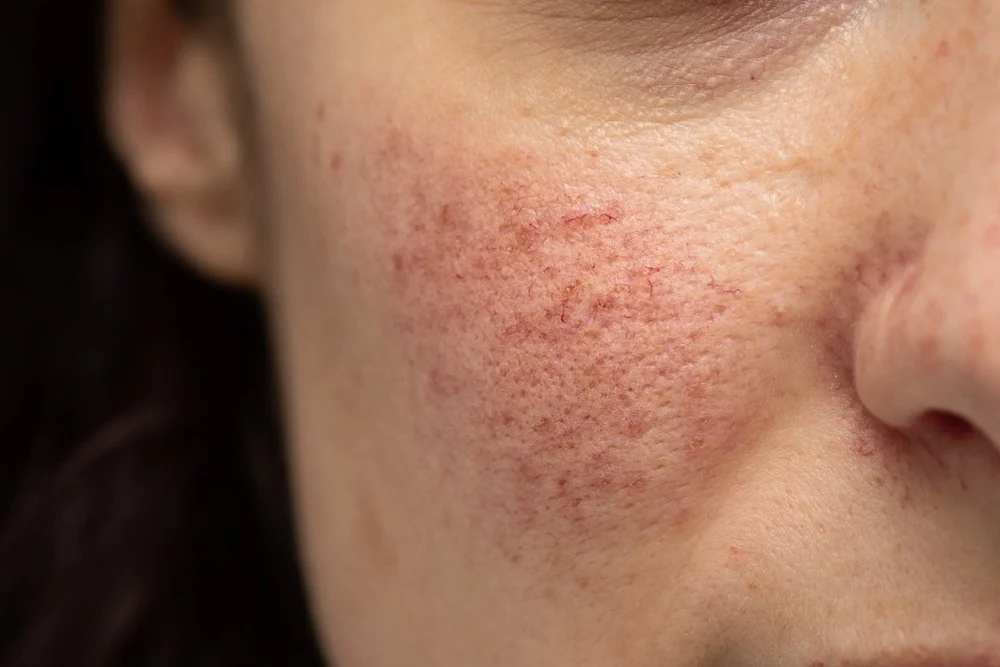Eksim: (306, 111, 802, 602)
